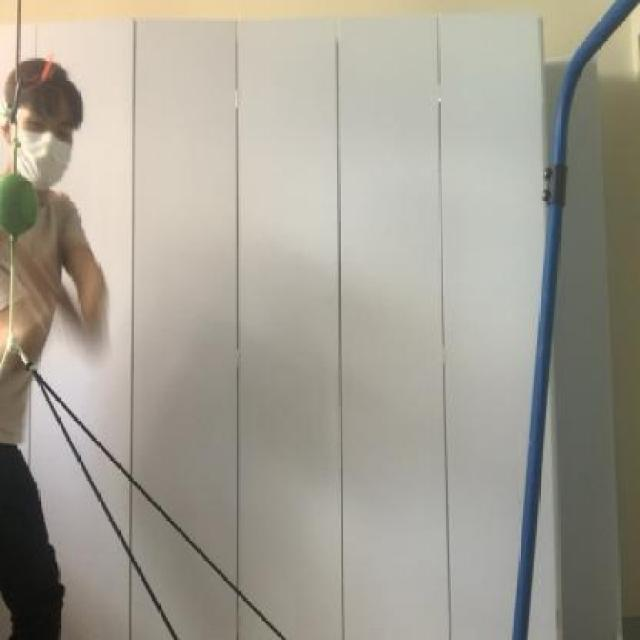baseball: (0, 163, 42, 235)
